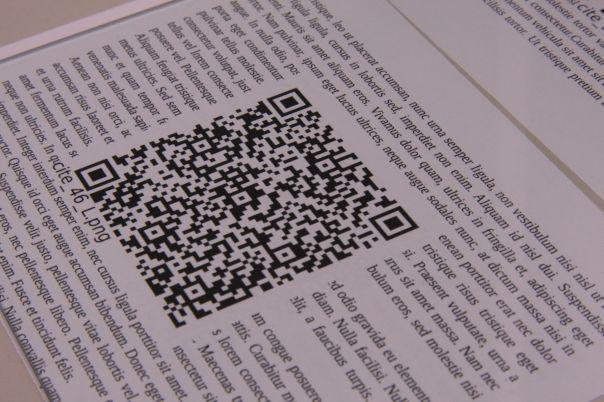Finder pattern: (368, 205, 419, 243), (73, 159, 121, 191), (265, 88, 313, 118)
